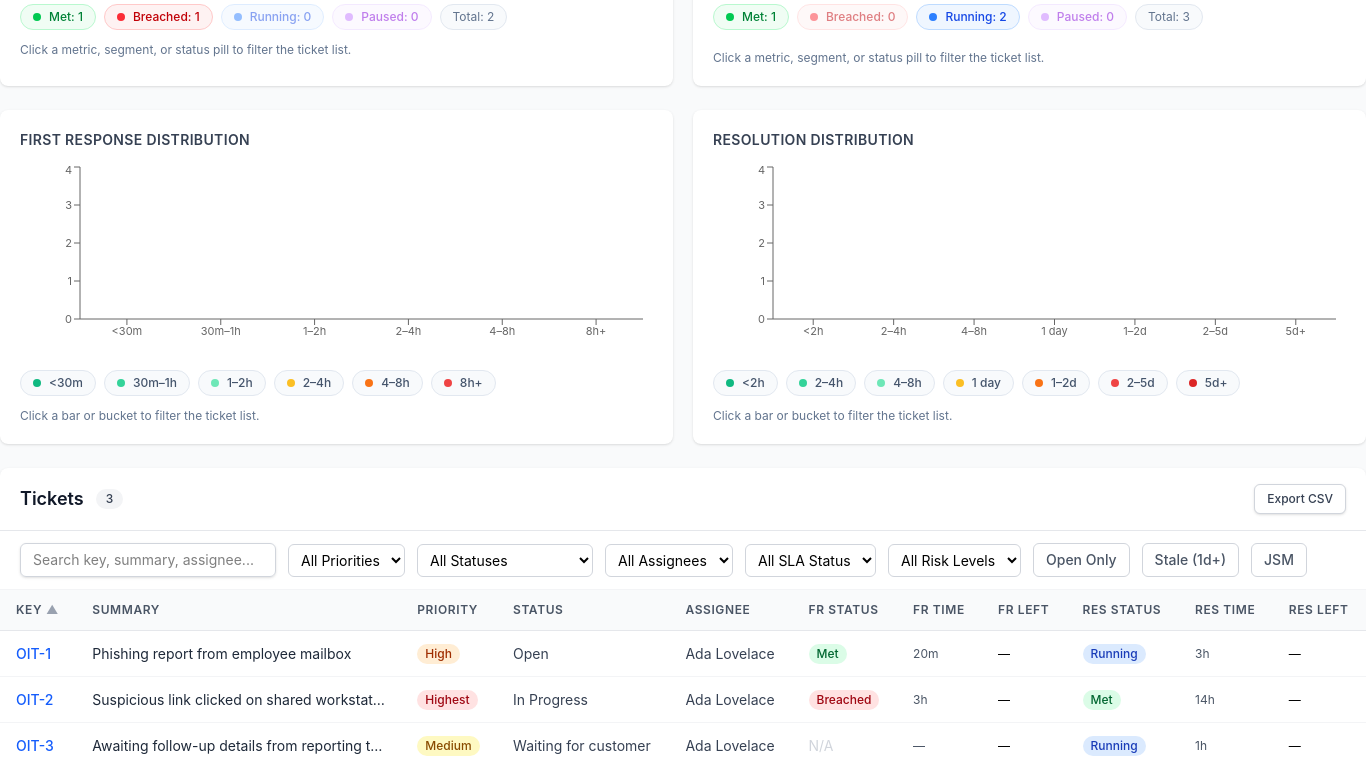
SLAPage › requests server-filtered tickets when the search box changes
(page scrolled)
Type "printer" into the field with placeholder "Search key, summary, assignee..." at (148, 560), box [20,543,276,577]
(page scrolled)
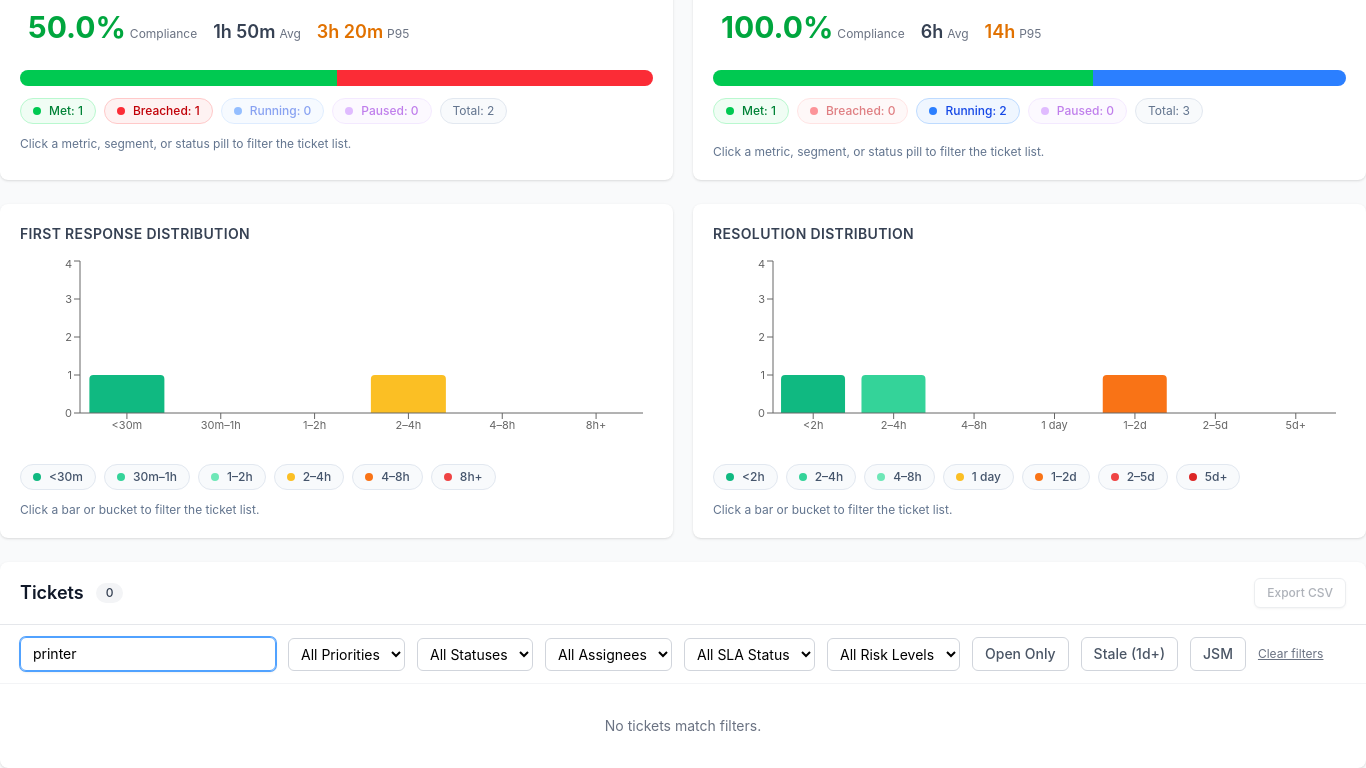
Check: the link "OIT-2" is gone
